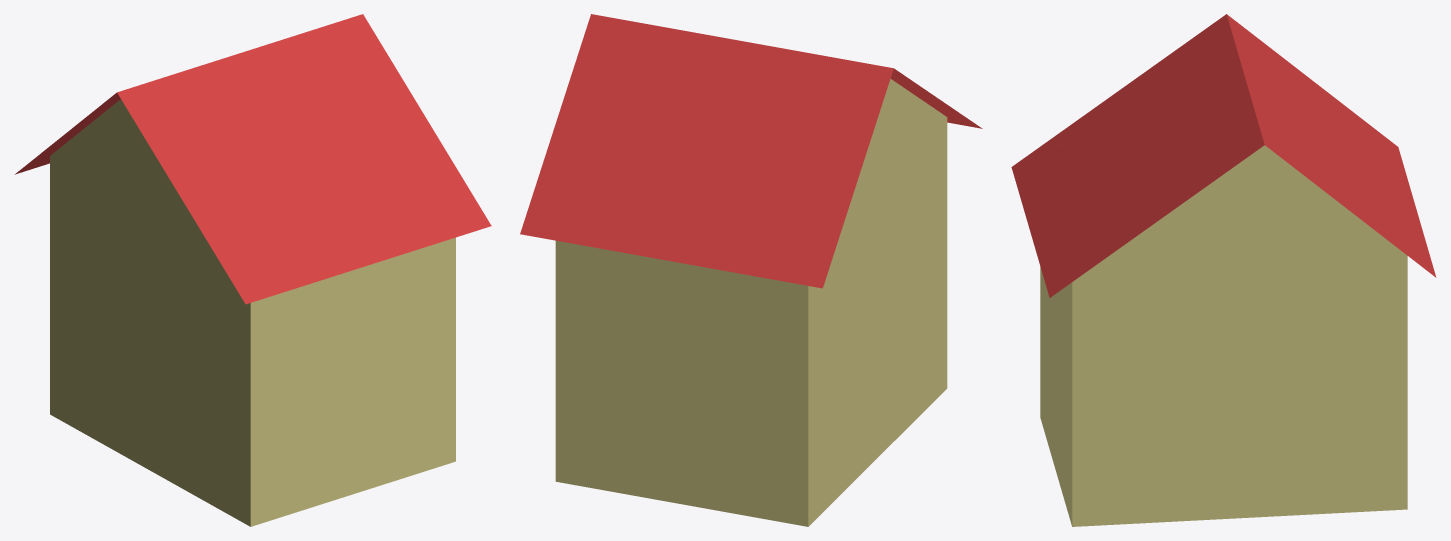
The picture shows the model from 3 angles, left to right: view 1: azimuth 30°, elevation 25°; view 2: azimuth 150°, elevation 25°; view 3: azimuth 270°, elevation 25°; orthographic projection. The views are drawn at different scales.
Size of the model in its own units: 10.36 by 12.31 by 12.23.
